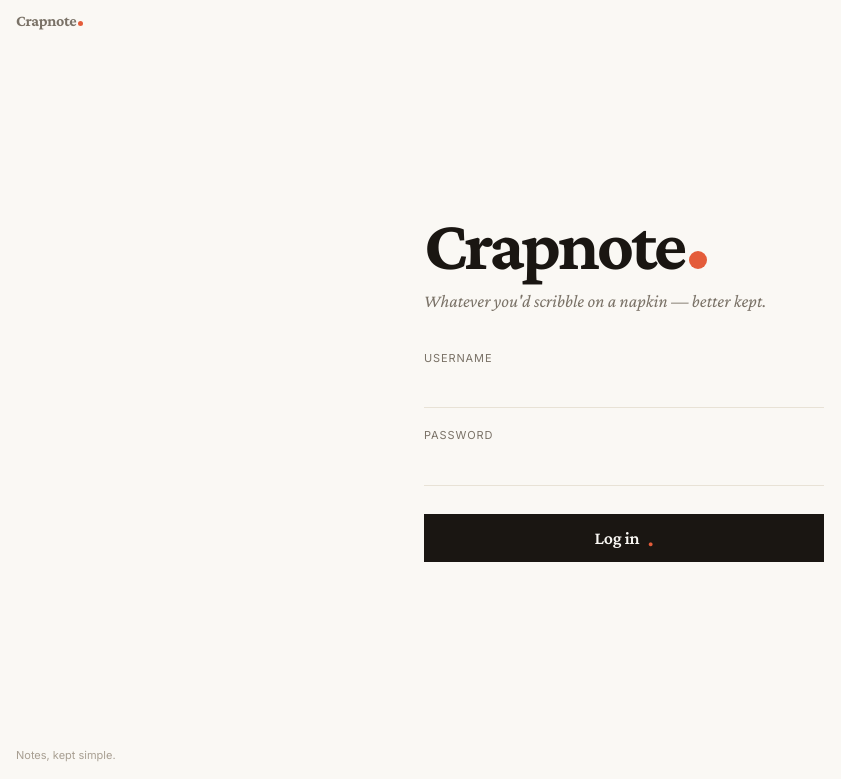
Scenario: Login page › shows error message on login failure
This screenshot has width=841, height=779.
Type "alice" into the field labelled "Username" at [624, 390], box [424,371,824,408]
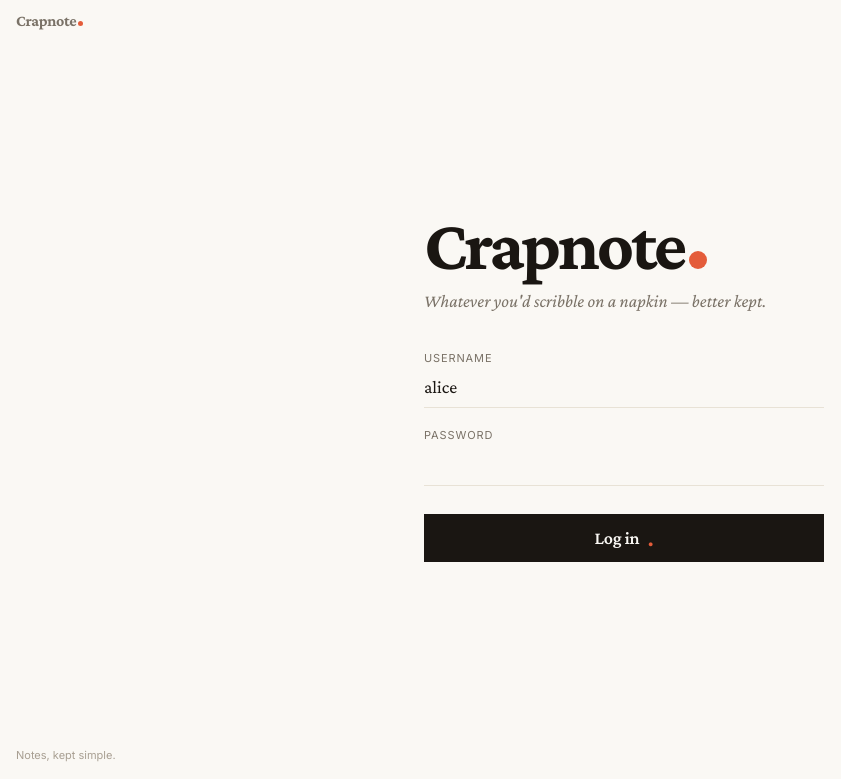
Type "wrong" into the password field labelled "Password" at [624, 467], box [424,449,824,486]
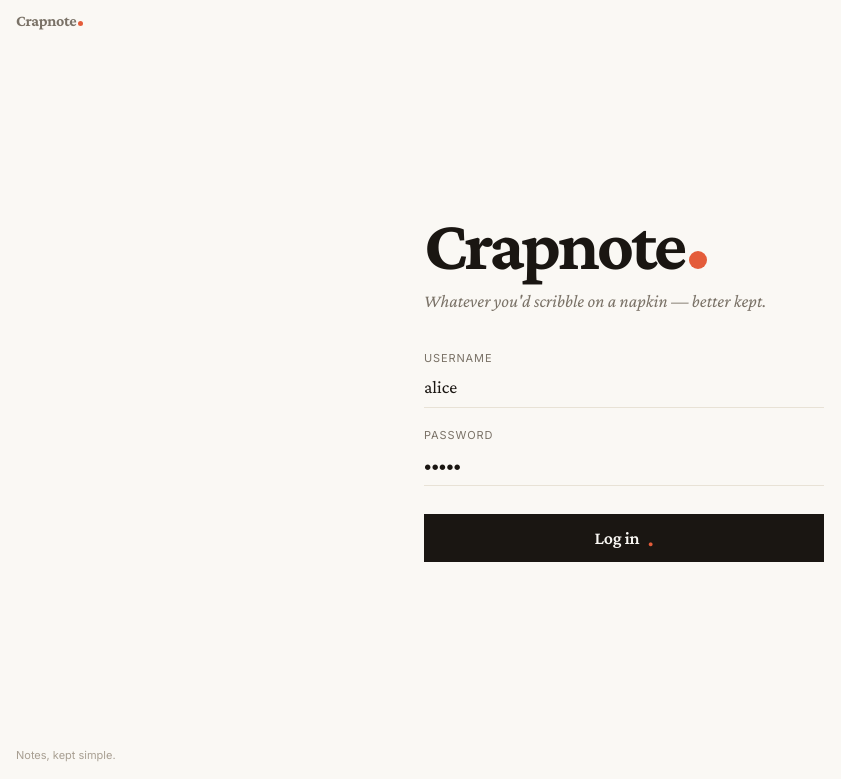
Click the button "Log in ." at [624, 538], box [424,514,824,562]
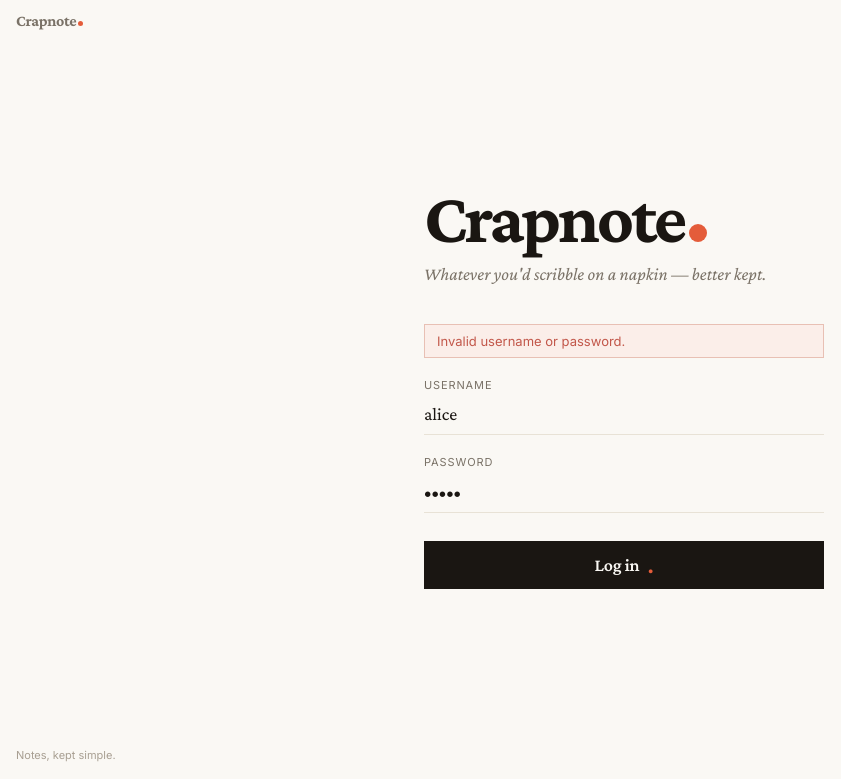
expect the message "Invalid username or password." is shown: met, box [424,324,824,358]
